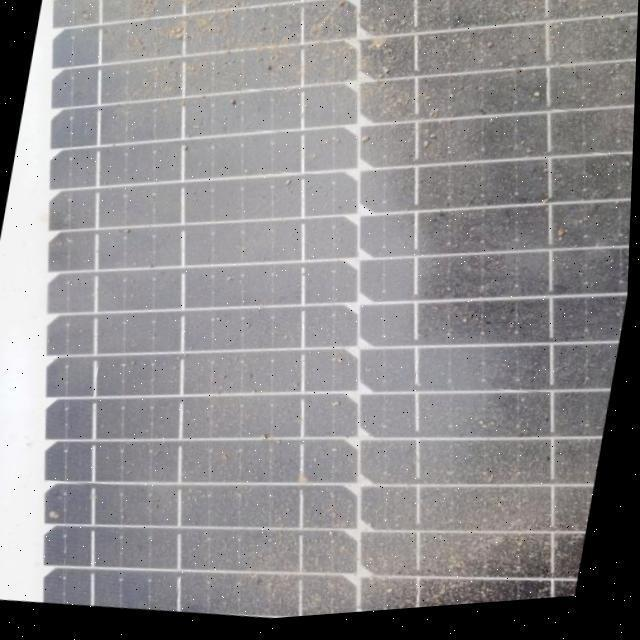Surface Contaminant: (17, 0, 639, 623)
